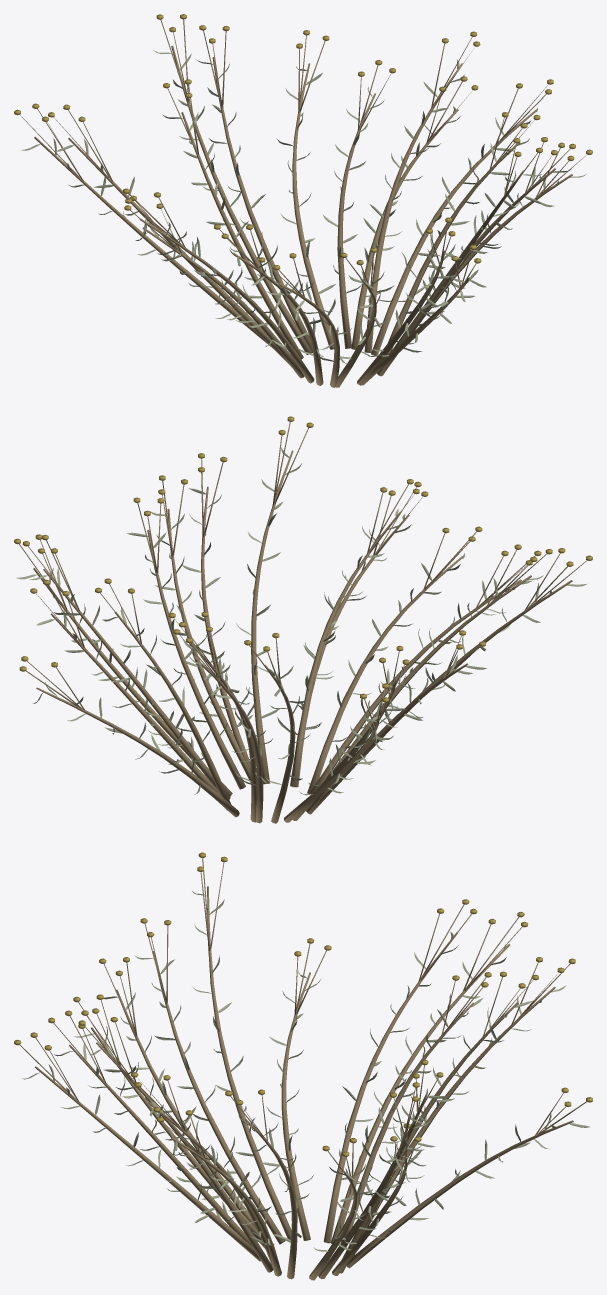
The model's file is Immortelle_2_Niveau0.fbx.
3 views of the same model, one above another, from view 1: azimuth 30°, elevation 25°; view 2: azimuth 150°, elevation 25°; view 3: azimuth 270°, elevation 25° (orthographic). The views are drawn at different scales.
Visible parts, largest first — view 1: Immortelle_2_Niveau0_Jeu; view 2: Immortelle_2_Niveau0_Jeu; view 3: Immortelle_2_Niveau0_Jeu.
Boxes of the visible parts, left/top/right/bottom form: Immortelle_2_Niveau0_Jeu: left=14, top=14, right=592, bottom=387; Immortelle_2_Niveau0_Jeu: left=14, top=416, right=592, bottom=823; Immortelle_2_Niveau0_Jeu: left=14, top=852, right=592, bottom=1280.
Bounding box in the file's own units: 59.72 × 31.93 × 58.72.
